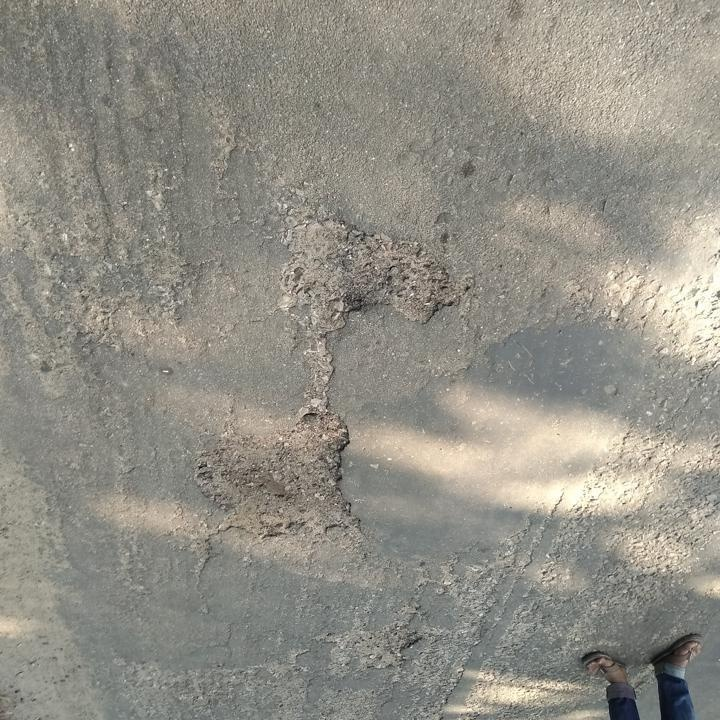pothole: (188, 404, 357, 545), (279, 200, 446, 339)
